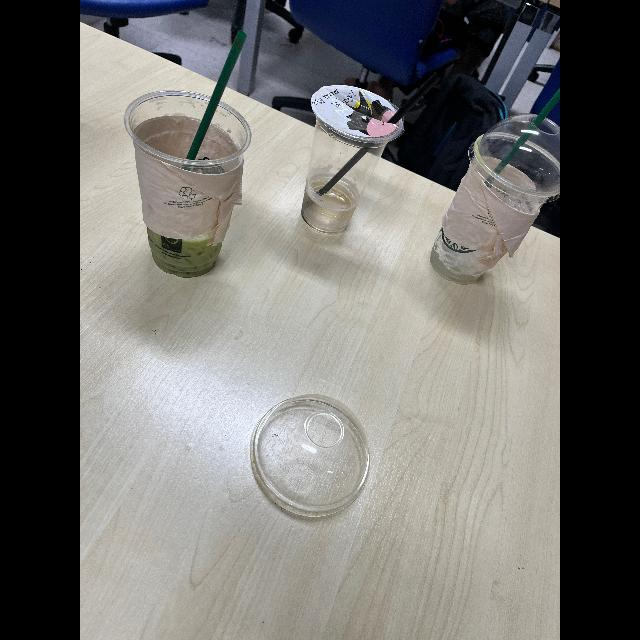plastic_cup: (123, 94, 257, 282), (422, 136, 560, 284), (286, 80, 406, 240)
plastic_cup_lid: (255, 389, 372, 523), (472, 116, 560, 188)
straw: (170, 14, 256, 186), (312, 102, 413, 202), (482, 84, 560, 190)
